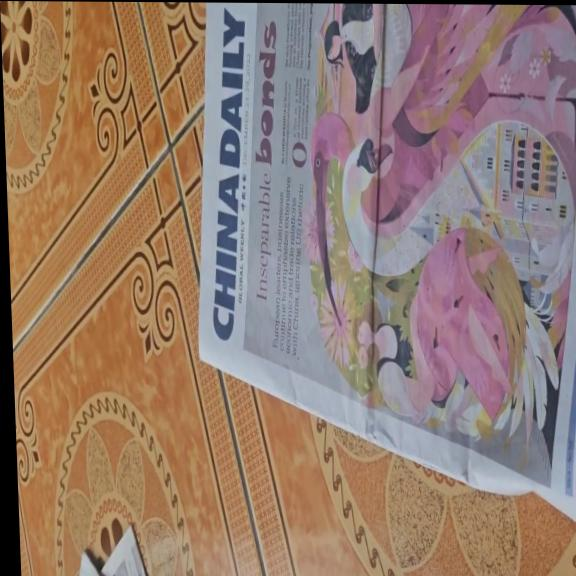Kertas: (210, 2, 576, 359)
